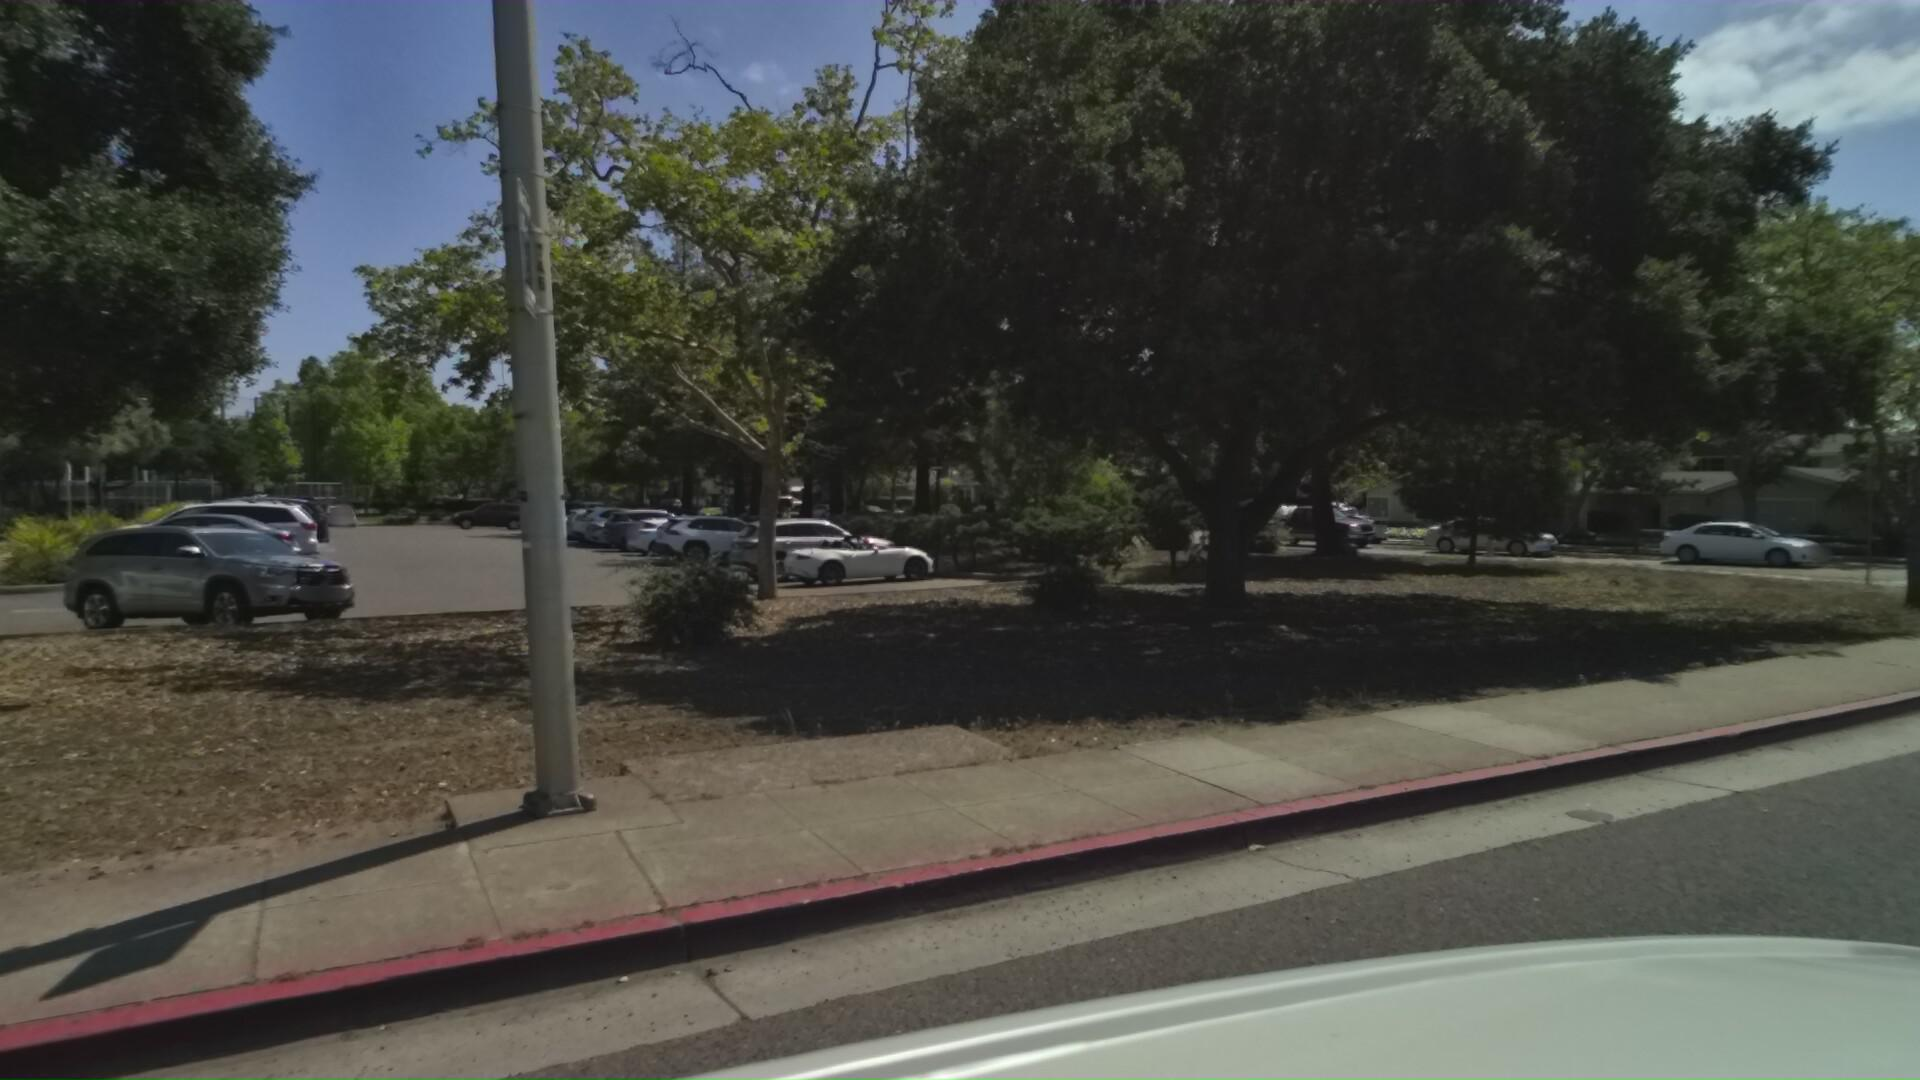car: (1651, 506, 1838, 568), (1424, 502, 1572, 556), (1254, 495, 1391, 547), (1294, 502, 1400, 545), (804, 496, 851, 517)
